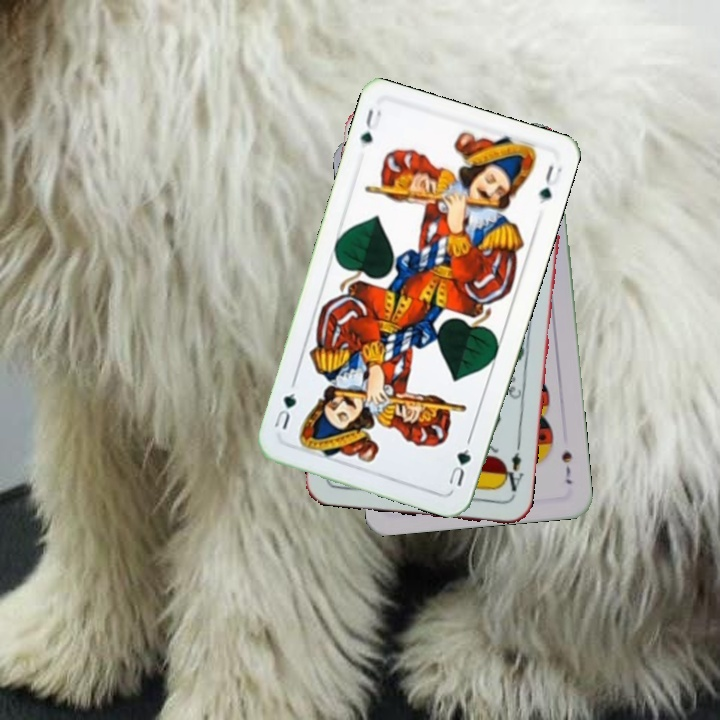EA: (498, 449, 526, 499)
GU: (444, 435, 474, 489), (356, 105, 384, 147)
S7: (557, 446, 575, 487)
